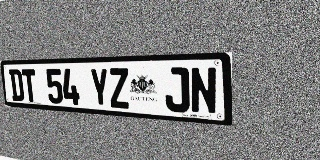4: (61, 69, 80, 105)
5: (46, 69, 64, 104)
D: (9, 69, 25, 101)
J: (164, 67, 190, 113)
N: (190, 67, 217, 115)
T: (21, 69, 38, 102)
Y: (89, 68, 110, 107)
Z: (108, 68, 130, 109)
